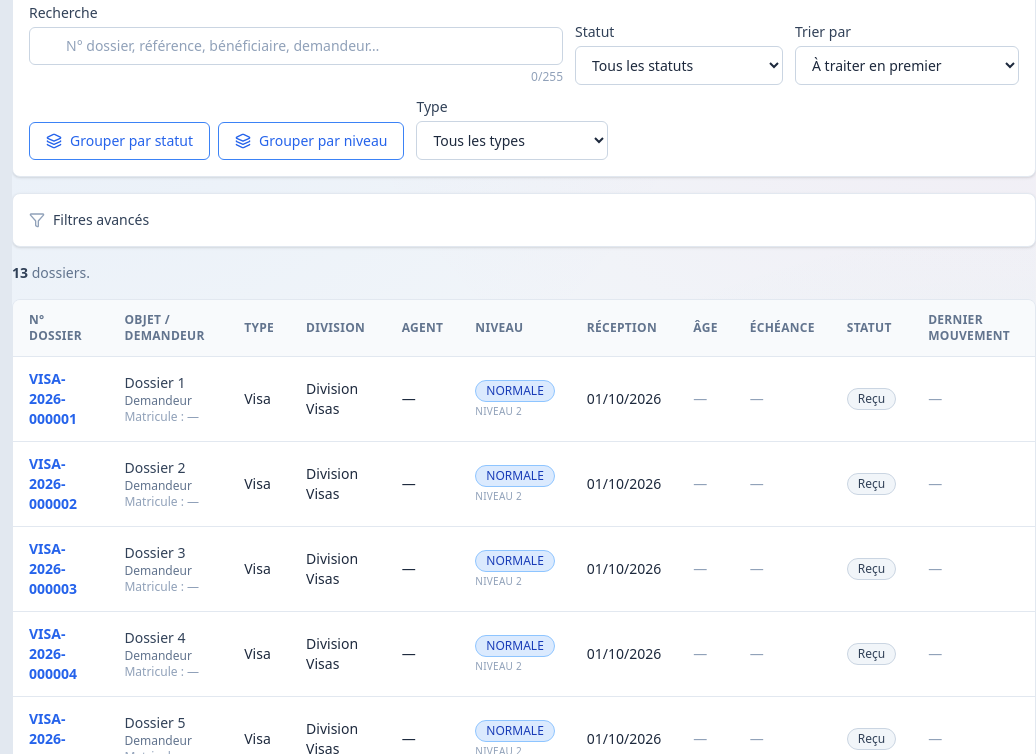
Test: Liste des dossiers — regroupement par statut › replie une section trop longue et la déploie à la demande
Expected: the link "VISA-2026-000001" is shown, 29,369 -> 77,428
What coordinates should you click on to do the following:
click the button "Grouper par statut"
I would click on:
 (120, 141)
Its box is 29,122 -> 210,160.
(page scrolled)
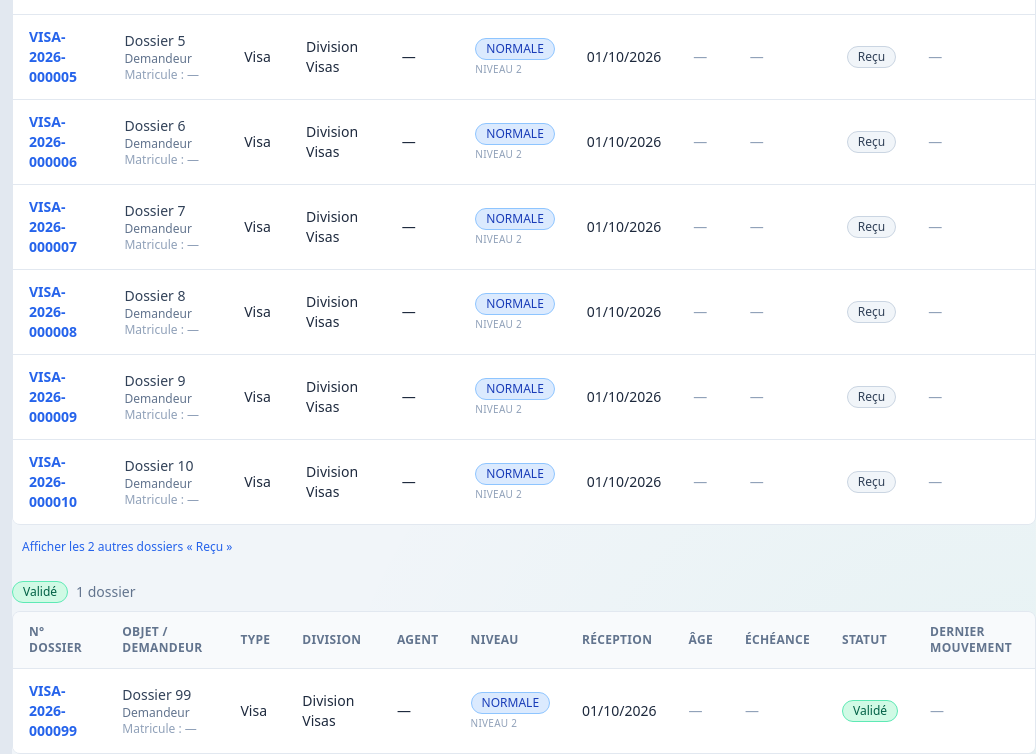
Expected: the link "VISA-2026-000010" is shown, 29,452 -> 77,511
Expected: the text "VISA-2026-000011" is not shown
What coordinates should you click on to do the following:
click the button "Afficher les 2 autres dossiers « Reçu »"
I would click on:
 (127, 547)
Its box is 12,533 -> 242,561.
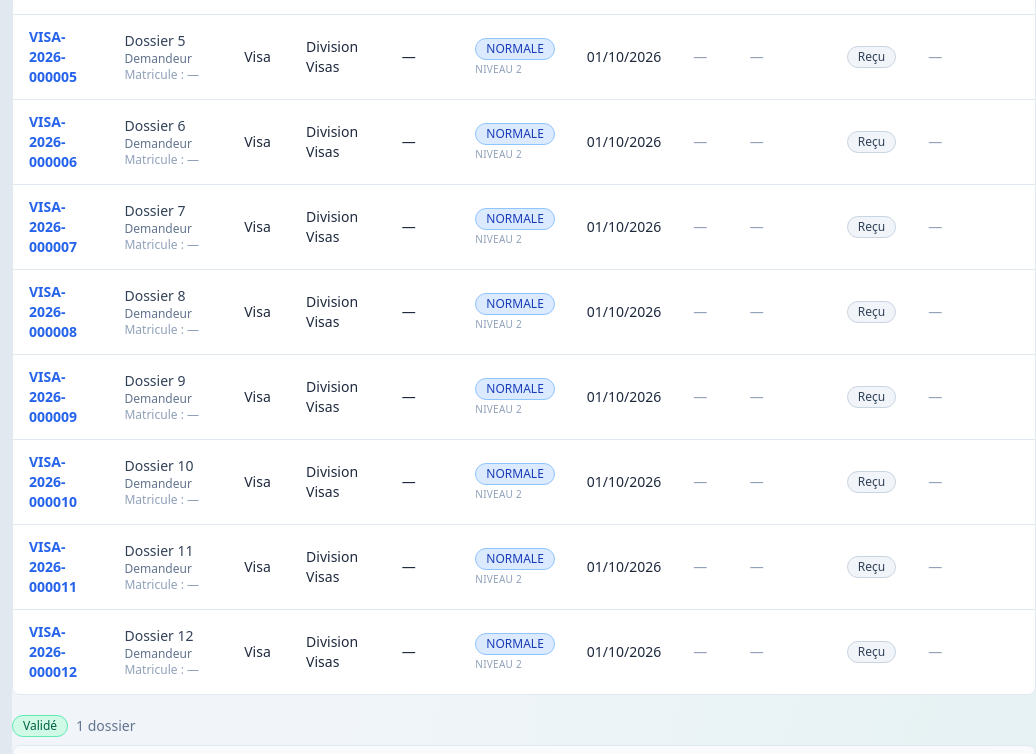
Expected: the link "VISA-2026-000011" is shown, 29,537 -> 77,596
Expected: the link "VISA-2026-000012" is shown, 29,622 -> 77,681
